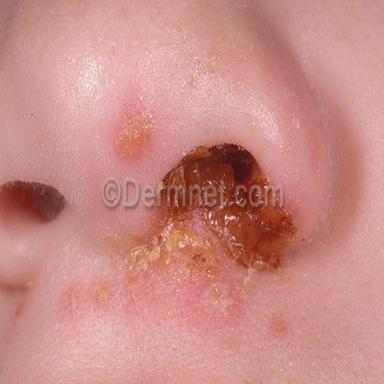Impetigo: (90, 206, 303, 312), (115, 110, 153, 157)
